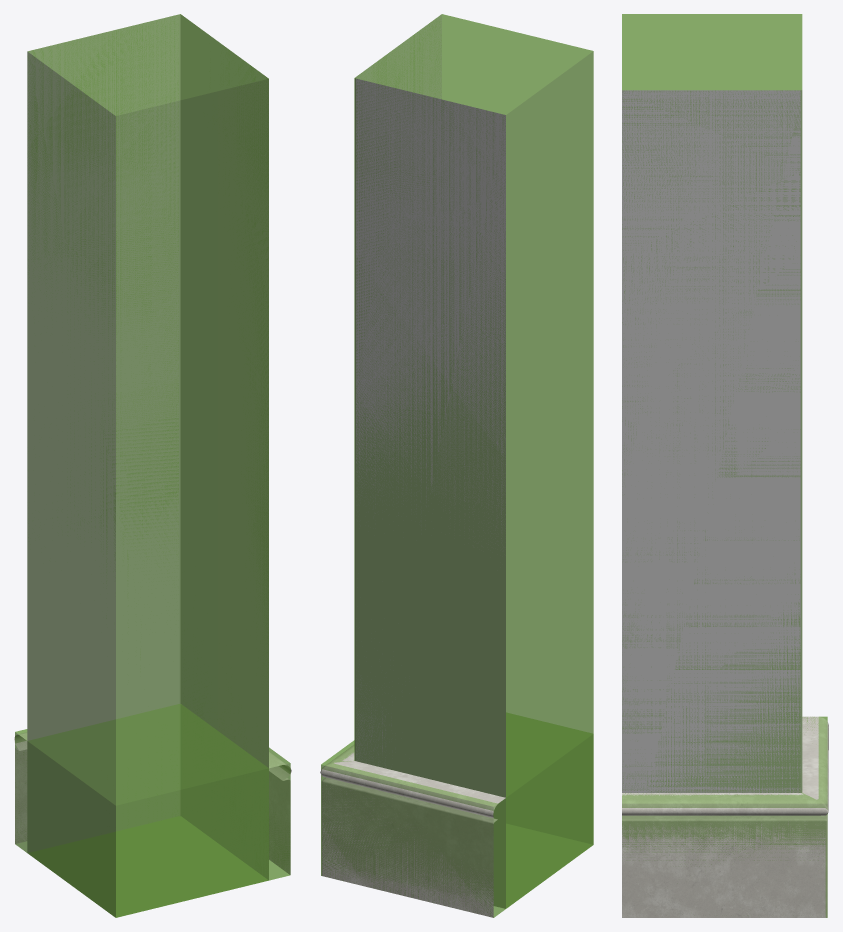
File: F3_md_StreetWall_5x1_90cnr_01.fbx
3 renders of one model, left to right at view 1: azimuth 30°, elevation 25°; view 2: azimuth 150°, elevation 25°; view 3: azimuth 270°, elevation 25°, orthographic. The views are drawn at different scales.
Parts seen in each view (by area): view 1: F3_md_StreetWall_5x1_90cnr_01_col_01, F3_md_StreetWall_5x1_90cnr_01_LOD0, F3_md_StreetWall_5x1_90cnr_01_col_02; view 2: F3_md_StreetWall_5x1_90cnr_01_col_01, F3_md_StreetWall_5x1_90cnr_01_LOD0, F3_md_StreetWall_5x1_90cnr_01_col_02; view 3: F3_md_StreetWall_5x1_90cnr_01_LOD0, F3_md_StreetWall_5x1_90cnr_01_col_01, F3_md_StreetWall_5x1_90cnr_01_col_02.
Part boxes in pixels (bbox=[...]): F3_md_StreetWall_5x1_90cnr_01_col_01: bbox=[27, 14, 268, 917]; F3_md_StreetWall_5x1_90cnr_01_LOD0: bbox=[14, 14, 291, 879]; F3_md_StreetWall_5x1_90cnr_01_col_02: bbox=[15, 704, 290, 917]; F3_md_StreetWall_5x1_90cnr_01_col_01: bbox=[354, 14, 593, 908]; F3_md_StreetWall_5x1_90cnr_01_LOD0: bbox=[320, 14, 505, 917]; F3_md_StreetWall_5x1_90cnr_01_col_02: bbox=[321, 712, 593, 917]; F3_md_StreetWall_5x1_90cnr_01_LOD0: bbox=[622, 90, 828, 917]; F3_md_StreetWall_5x1_90cnr_01_col_01: bbox=[622, 14, 802, 792]; F3_md_StreetWall_5x1_90cnr_01_col_02: bbox=[622, 716, 827, 917].
Size of what is drawn, in the model's own units: 115 by 500 by 115.
